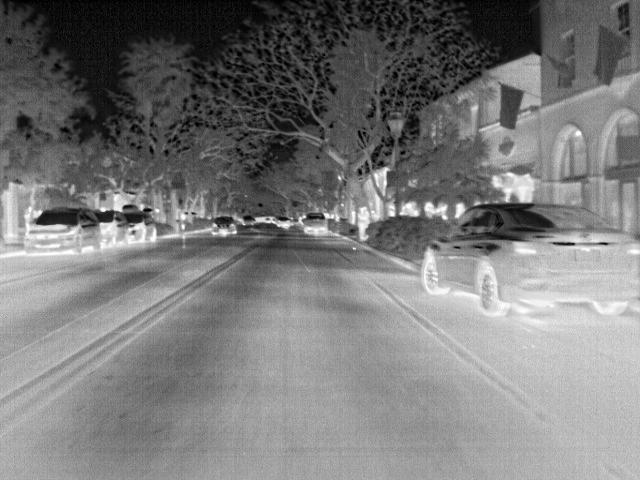car: (420, 203, 638, 315), (20, 206, 101, 256), (117, 209, 157, 242), (94, 211, 128, 248), (301, 211, 329, 233), (208, 215, 238, 235), (239, 214, 257, 228), (274, 214, 292, 228)
person: (355, 204, 370, 241)
